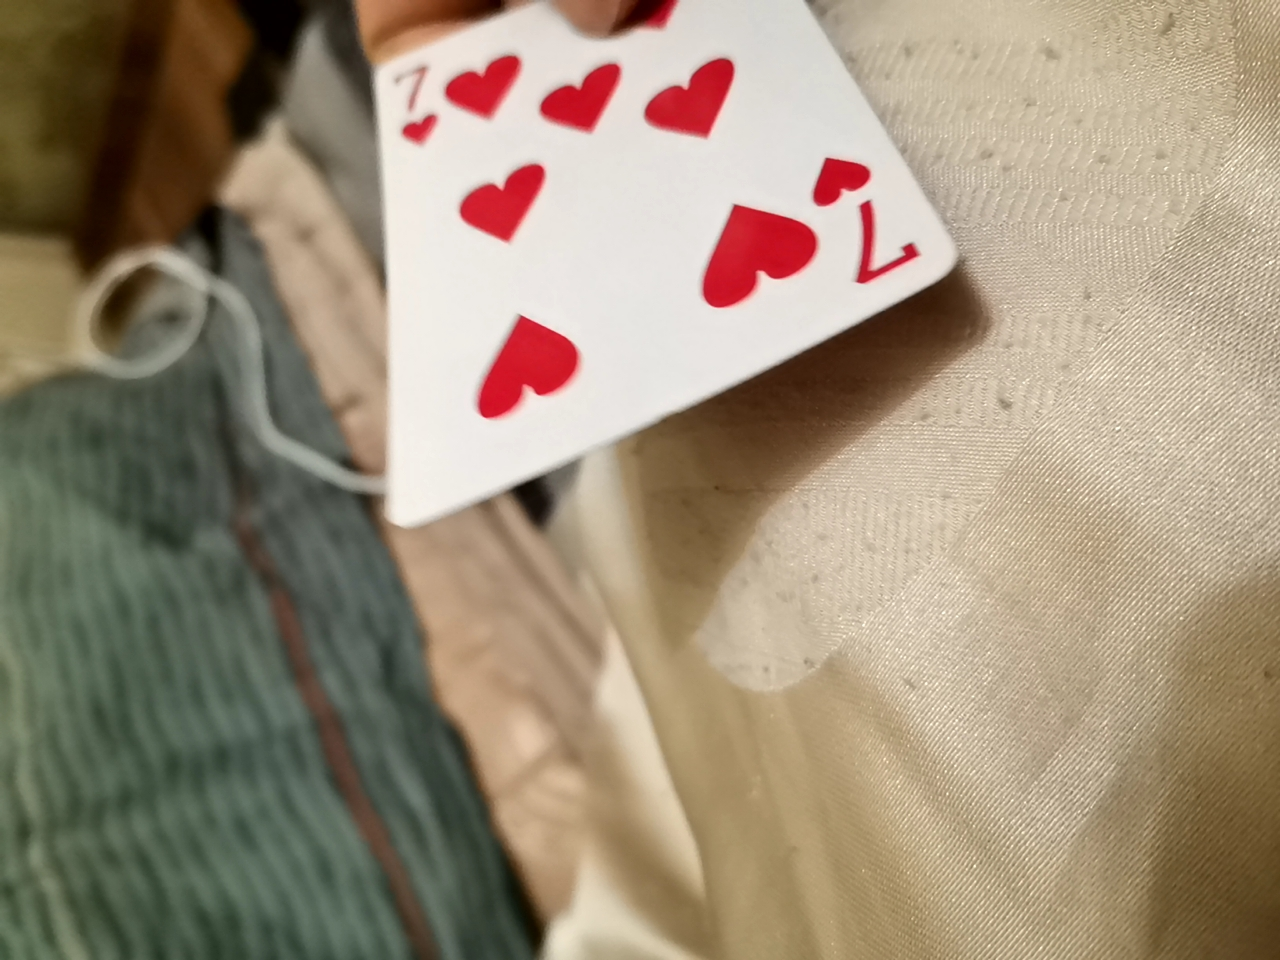hx 7: (349, 10, 942, 543)
